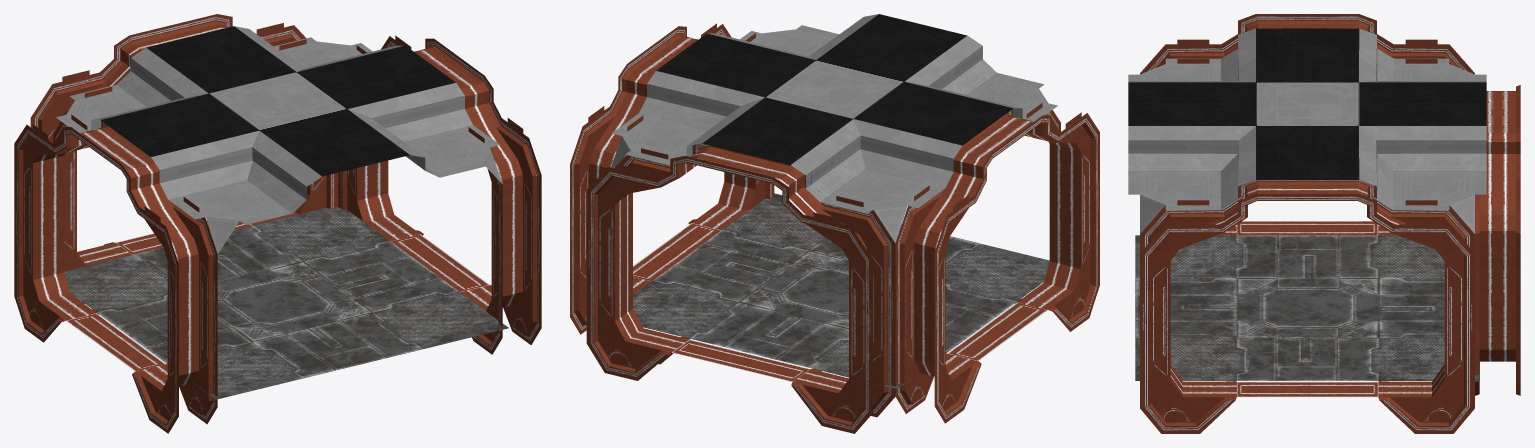
File: Junction_section.FBX
The picture shows the model from 3 angles, left to right: view 1: azimuth 30°, elevation 25°; view 2: azimuth 150°, elevation 25°; view 3: azimuth 270°, elevation 25°; orthographic projection.
Parts seen in each view (by area): view 1: Group001, Plane002, Plane003, Plane004; view 2: Group001, Plane004, Plane002, Plane003; view 3: Group001, Plane003, Plane004, Plane002.
Part boxes in pixels (<box>): Group001: <box>56,26,508,399</box>; Plane002: <box>14,114,217,433</box>; Plane003: <box>338,35,541,354</box>; Plane004: <box>30,14,338,303</box>; Group001: <box>611,14,1057,389</box>; Plane004: <box>586,143,895,433</box>; Plane002: <box>895,103,1099,423</box>; Plane003: <box>570,23,774,334</box>; Group001: <box>1128,28,1486,380</box>; Plane003: <box>1140,180,1474,433</box>; Plane004: <box>1475,85,1520,395</box>; Plane002: <box>1140,14,1474,235</box>.
Size of the model in its own units: 623 by 387 by 573.
